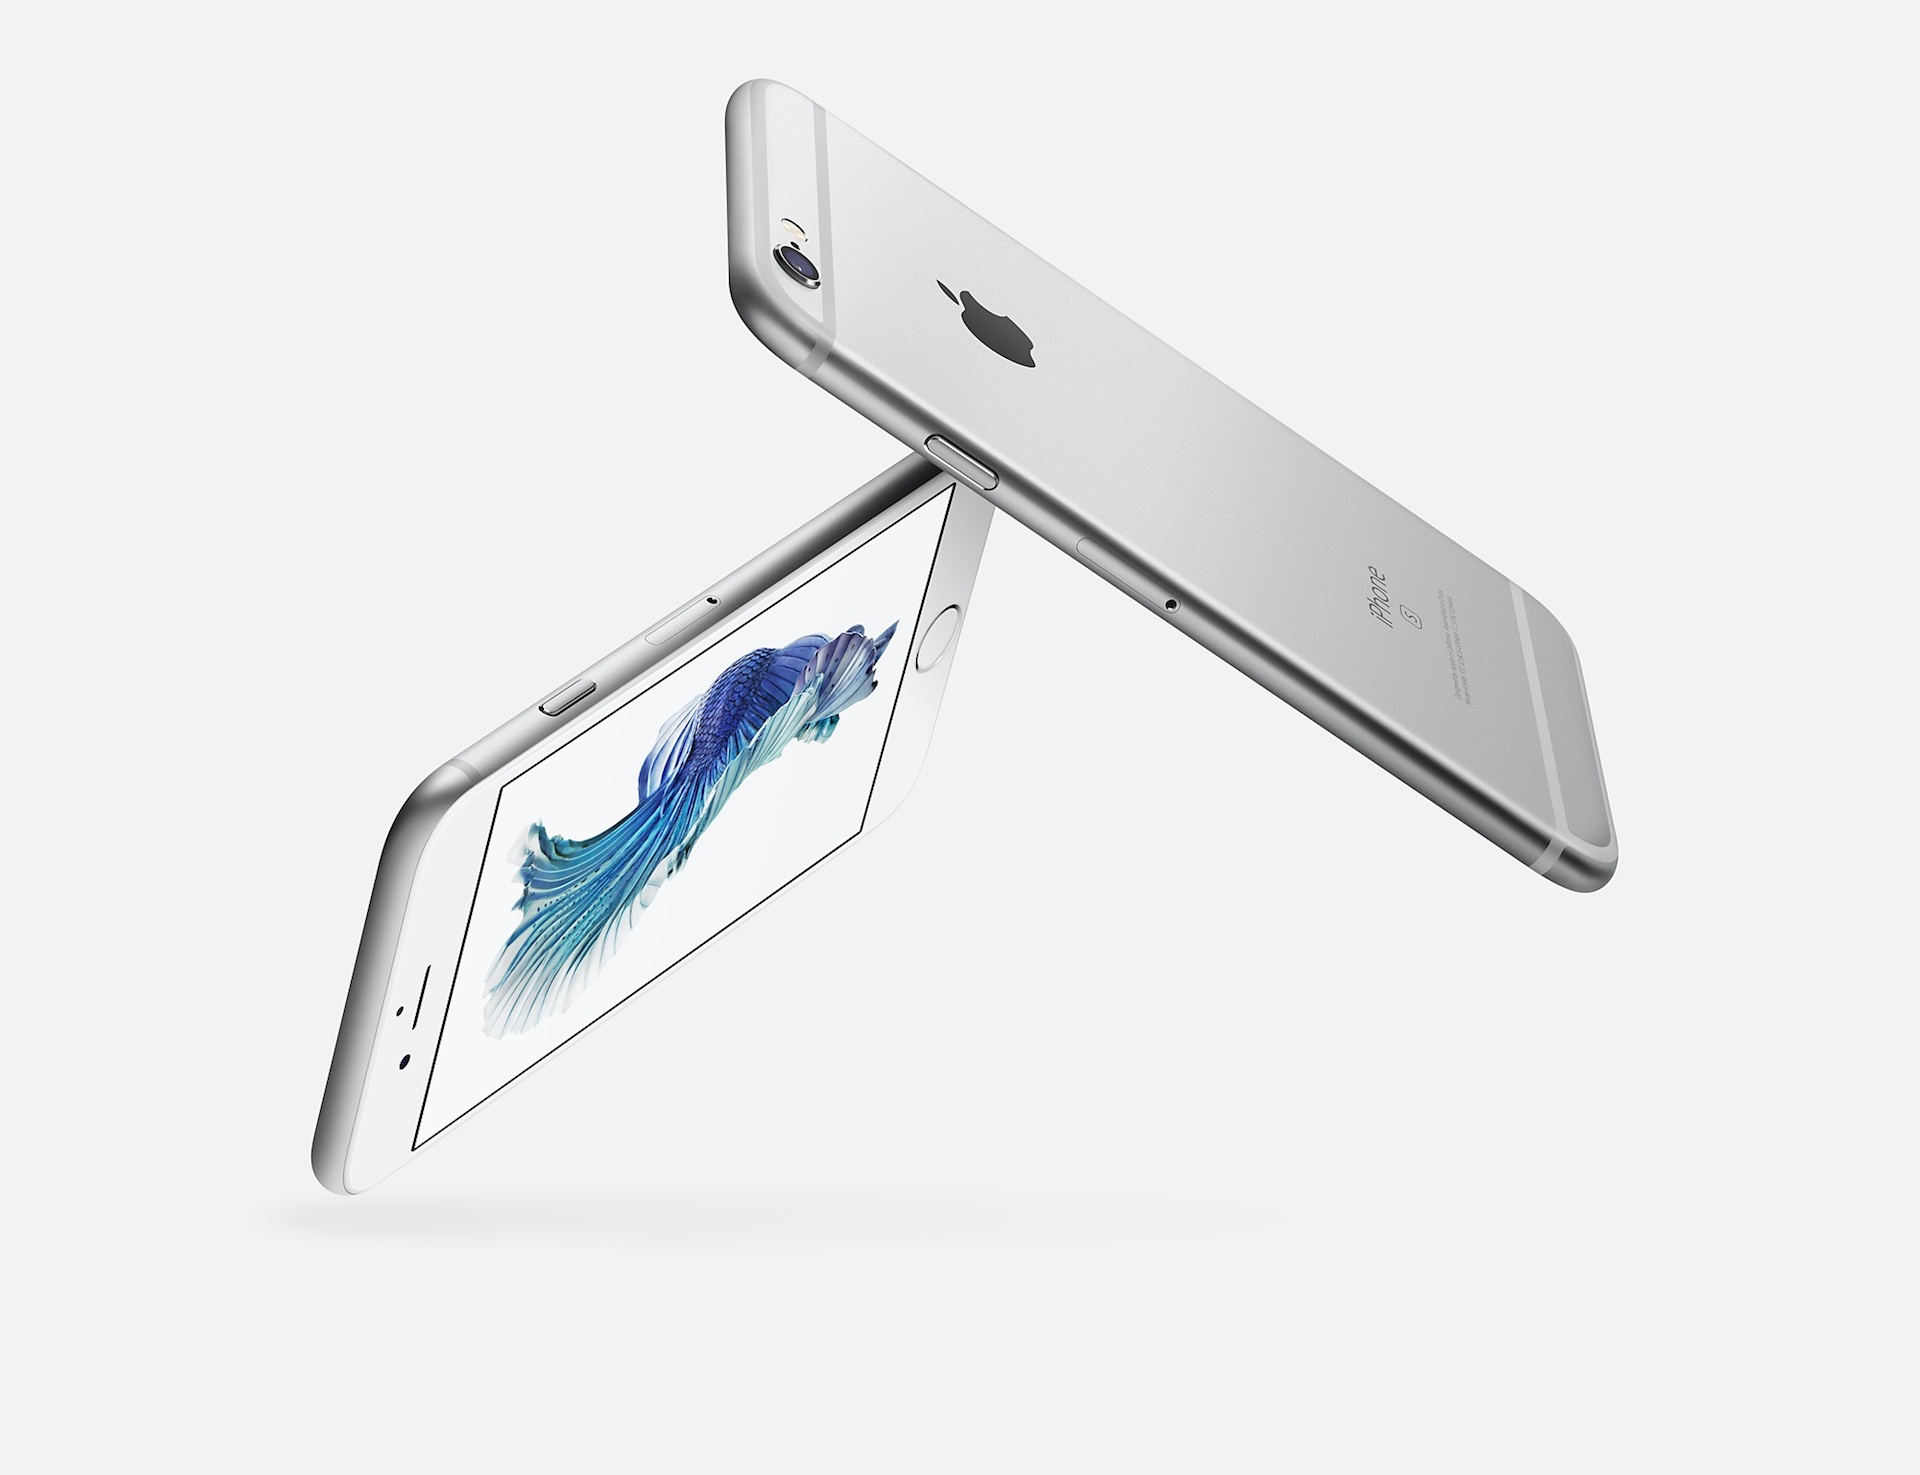smartphone: (721, 76, 1621, 899), (308, 446, 1001, 1202)
